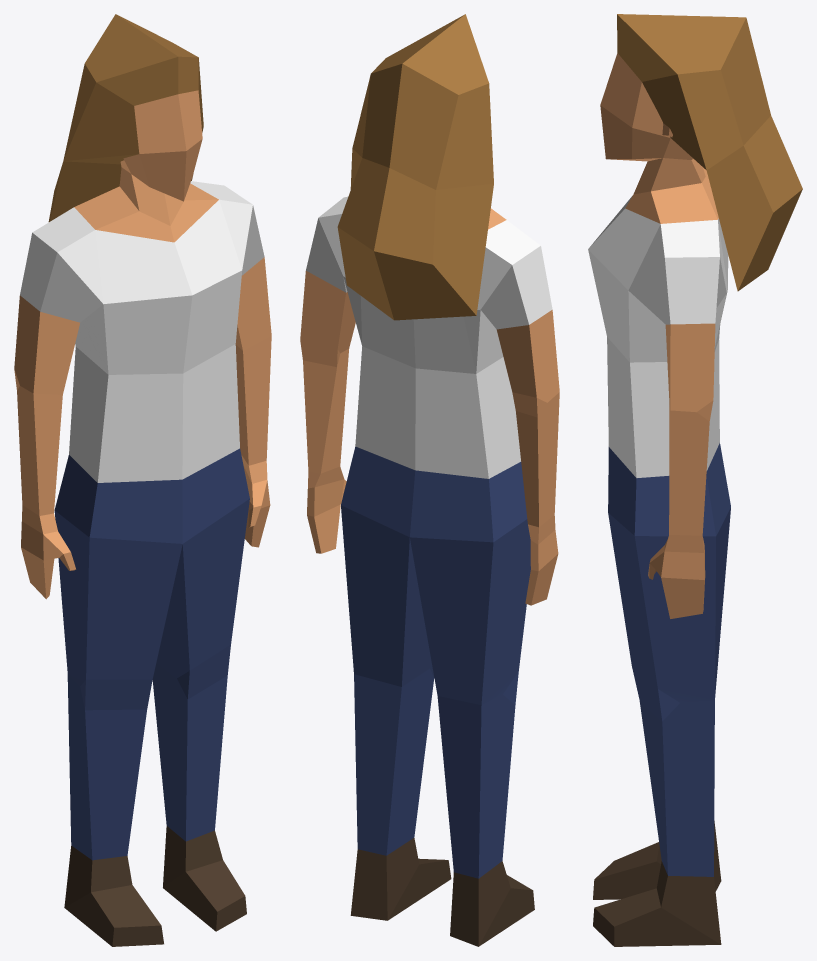
Rendered from people_woman-casual-pants.fbx.
3 renders of one model, left to right at view 1: azimuth 30°, elevation 25°; view 2: azimuth 150°, elevation 25°; view 3: azimuth 270°, elevation 25°, orthographic. The views are drawn at different scales.
Visible parts, largest first — view 1: people_woman_casual_pants; view 2: people_woman_casual_pants; view 3: people_woman_casual_pants.
Boxes of the visible parts, x1=… form: people_woman_casual_pants: x1=14, y1=14, x2=271, y2=946; people_woman_casual_pants: x1=300, y1=14, x2=559, y2=946; people_woman_casual_pants: x1=588, y1=14, x2=802, y2=946.
Size of the model in its own units: 57.43 by 200 by 43.32.
